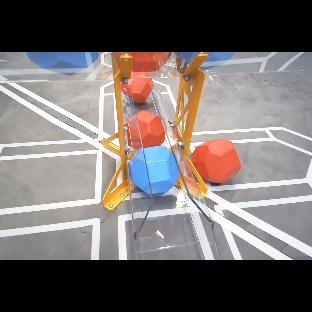V5_BLUE: (129, 146, 179, 194), (26, 52, 98, 71), (203, 52, 235, 68), (175, 52, 201, 63)
